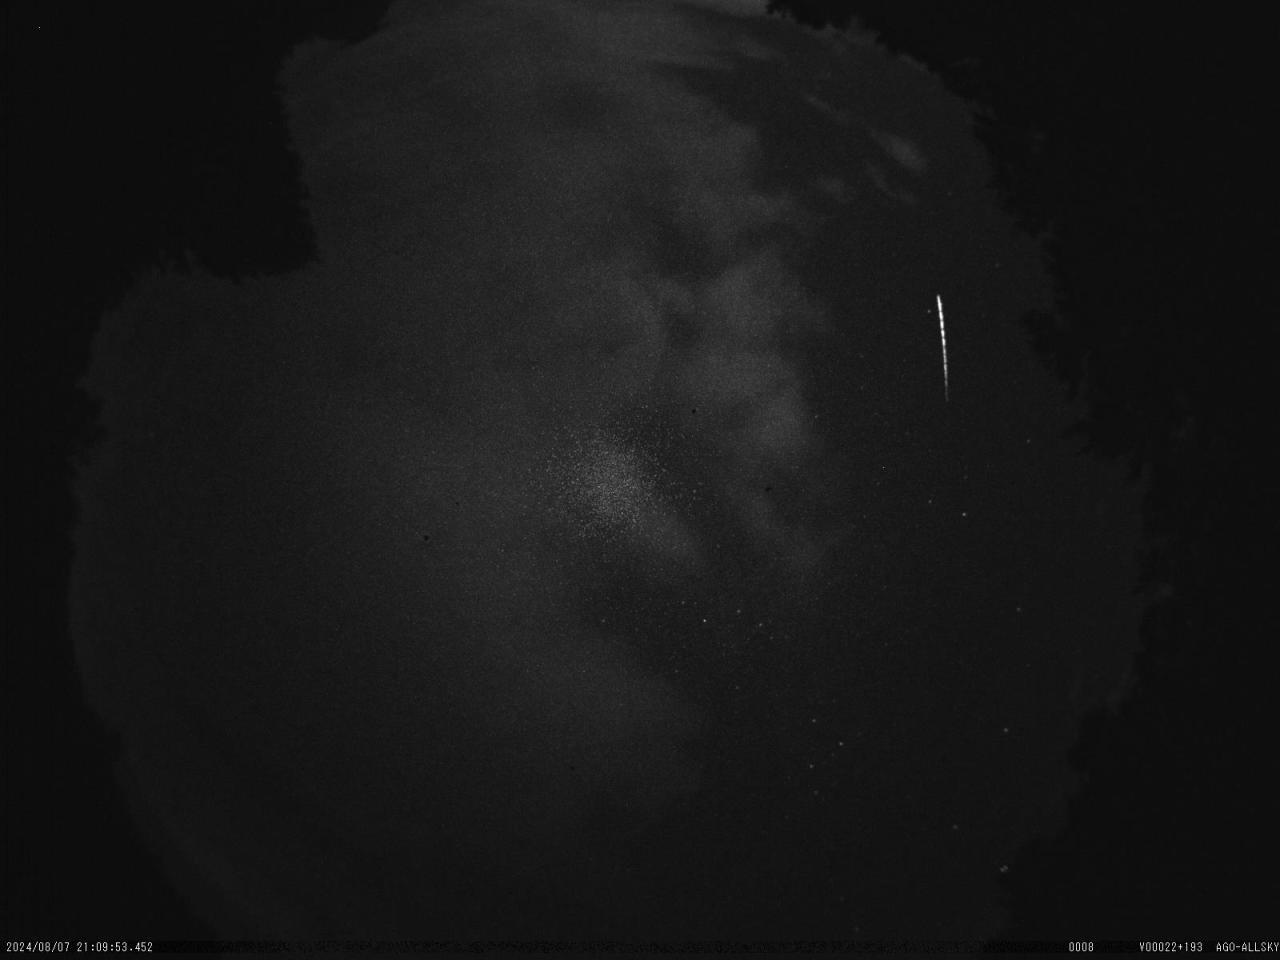Meteor: (931, 292, 949, 390)
